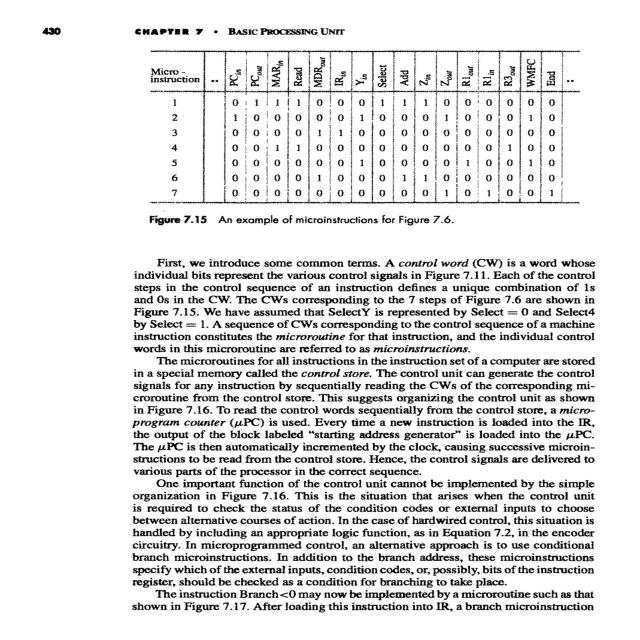diagram: (80, 47, 640, 246)
